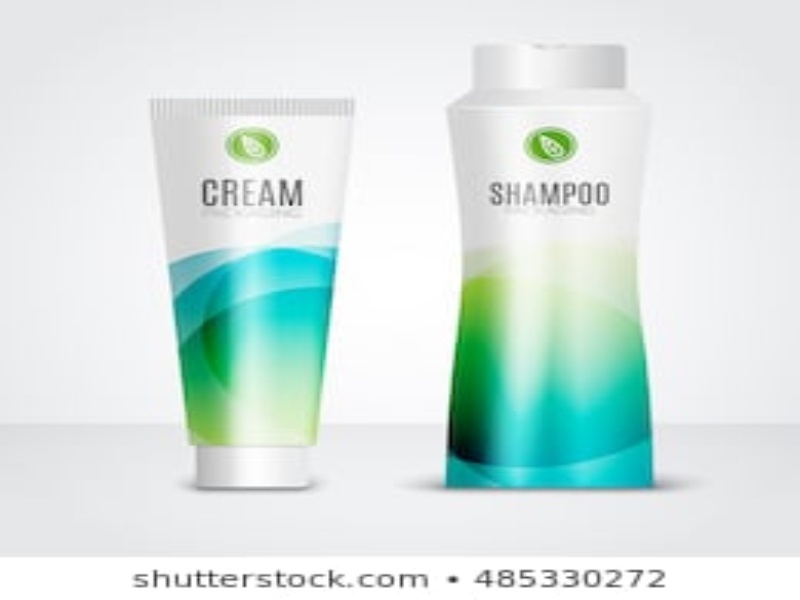shampoo-bottle: (443, 38, 656, 495), (147, 94, 358, 492)
